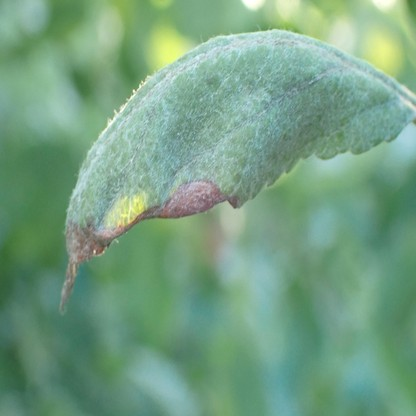powder: (65, 30, 408, 239)
